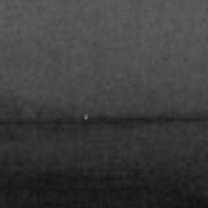Target: (83, 113, 89, 120)
